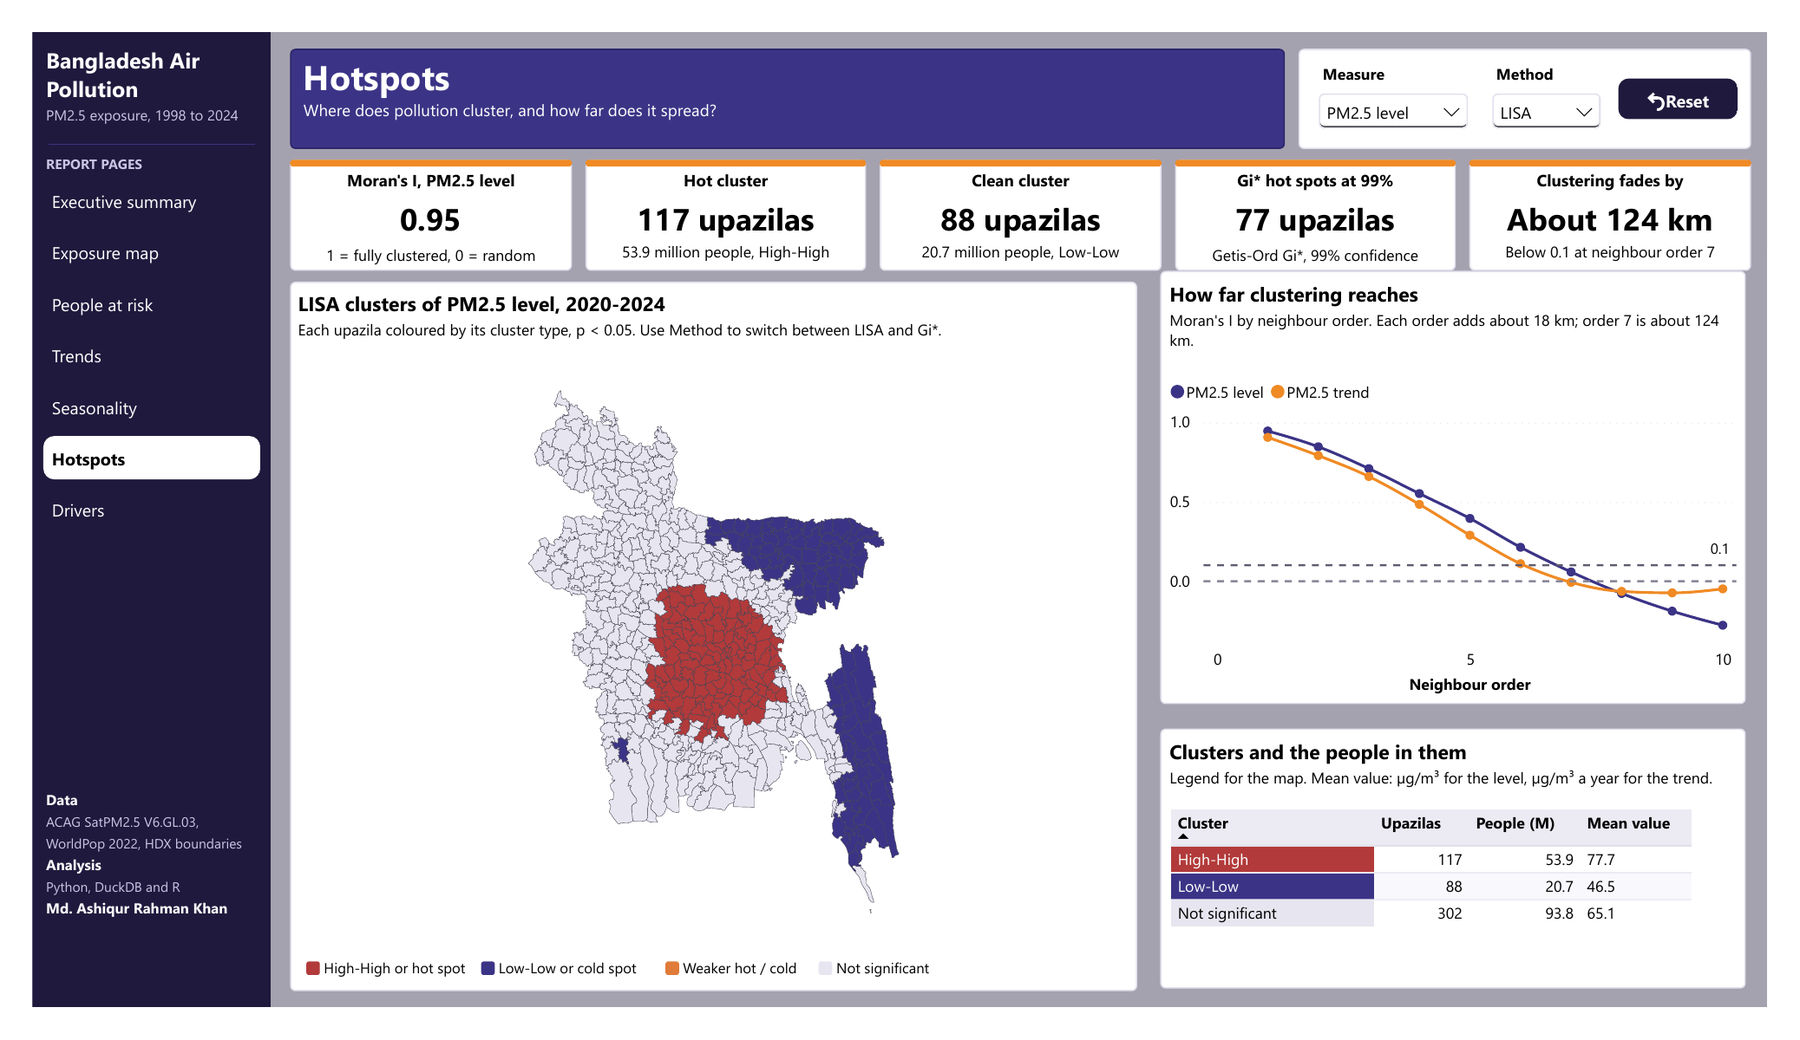

This screenshot's page, from the dashboard's own definition file:
{"tool":"powerbi","page":{"name":"Hotspots","canvas":[1280,720],"ordinal":5},"visuals":[{"type":"shape","box":[0,0,176,720],"z":1100},{"type":"textbox","box":[8,8,160,72],"z":1200},{"type":"shape","box":[12,82,152,1],"z":1300},{"type":"textbox","box":[8,86,160,20],"z":1400},{"type":"actionButton","box":[8,108,160,32],"z":1500},{"type":"actionButton","box":[8,146,160,32],"z":1600},{"type":"actionButton","box":[8,184,160,32],"z":1700},{"type":"actionButton","box":[8,222,160,32],"z":1800},{"type":"actionButton","box":[8,260,160,32],"z":1900},{"type":"actionButton","box":[8,298,160,32],"z":2000},{"type":"actionButton","box":[8,336,160,32],"z":2100},{"type":"textbox","box":[8,556,160,156],"z":2200},{"type":"shape","box":[190,12,734,74],"z":2300},{"type":"textbox","box":[198,14,718,70],"z":2400},{"type":"shape","box":[934,12,334,74],"z":2500},{"type":"slicer","fields":{"Values":["Cluster Measure.Measure"]},"box":[944,23,120,52],"z":2600},{"type":"slicer","fields":{"Values":["Cluster Legend.Method"]},"box":[1072,23,90,52],"z":2700},{"type":"actionButton","box":[1170,34,88,30],"z":2800},{"type":"shape","box":[190,94,207.6,82],"z":2900},{"type":"shape","box":[190,94,207.6,5],"z":3000},{"type":"card","fields":{"Values":["_Measures.KPI Moran"]},"box":[194,99,199.6,58],"z":3100},{"type":"textbox","box":[193,155,201.6,20],"z":3200},{"type":"shape","box":[407.6,94,207.6,82],"z":3300},{"type":"shape","box":[407.6,94,207.6,5],"z":3400},{"type":"card","title":"Hot cluster","fields":{"Values":["_Measures.KPI Hot Cluster"]},"box":[411.6,99,199.6,58],"z":3500},{"type":"card","fields":{"Values":["_Measures.Sub Hot Cluster"]},"box":[410.6,156,201.6,18],"z":3600},{"type":"shape","box":[625.2,94,207.6,82],"z":3700},{"type":"shape","box":[625.2,94,207.6,5],"z":3800},{"type":"card","title":"Clean cluster","fields":{"Values":["_Measures.KPI Clean Cluster"]},"box":[629.2,99,199.6,58],"z":3900},{"type":"card","fields":{"Values":["_Measures.Sub Clean Cluster"]},"box":[628.2,156,201.6,18],"z":4000},{"type":"shape","box":[842.8,94,207.6,82],"z":4100},{"type":"shape","box":[842.8,94,207.6,5],"z":4200},{"type":"card","title":"Gi* hot spots at 99%","fields":{"Values":["_Measures.KPI Hot Spots 99"]},"box":[846.8,99,199.6,58],"z":4300},{"type":"textbox","box":[845.8,155,201.6,20],"z":4400},{"type":"shape","box":[1060.4,94,207.6,82],"z":4500},{"type":"shape","box":[1060.4,94,207.6,5],"z":4600},{"type":"card","title":"Clustering fades by","fields":{"Values":["_Measures.KPI Fades"]},"box":[1064.4,99,199.6,58],"z":4700},{"type":"card","fields":{"Values":["_Measures.Sub Fades"]},"box":[1063.4,156,201.6,18],"z":4800},{"type":"shape","box":[190,184,624.7,524],"z":4900},{"type":"shapeMap","fields":{"Category":["dim_geo.pcode"],"Y":["_Measures.Cluster Sort"]},"box":[190,184,624.7,494],"z":5000},{"type":"shape","box":[202,686,10,10],"z":5100},{"type":"textbox","box":[215,682,108.5,18],"z":5200},{"type":"shape","box":[331.4,686,10,10],"z":5300},{"type":"textbox","box":[344.4,682,114.8,18],"z":5400},{"type":"shape","box":[467.2,686,10,10],"z":5500},{"type":"textbox","box":[480.2,682,91.5,18],"z":5600},{"type":"shape","box":[579.7,686,10,10],"z":5700},{"type":"textbox","box":[592.7,682,78.7,18],"z":5800},{"type":"lineChart","title":"How far clustering reaches","fields":{"Category":["stat_correlogram.lag_order"],"Y":["_Measures.Correlogram Level","_Measures.Correlogram Trend"]},"box":[832,176,432,320],"z":5900},{"type":"tableEx","title":"Clusters and the people in them","fields":{"Values":["Cluster Legend.Class","_Measures.Cluster Upazilas","_Measures.Cluster People","_Measures.Cluster Mean"]},"box":[832,514,432,192],"z":6000}]}

Visuals, with their boxes in screenshot pixels (x1, y1, x2, y2), scaled from the page's 1280x720 canvas onto the 1800x1040 screenshot:
shape: [left=0, top=0, right=248, bottom=1039]
textbox: [left=11, top=12, right=236, bottom=116]
shape: [left=17, top=118, right=231, bottom=120]
textbox: [left=11, top=124, right=236, bottom=153]
actionButton: [left=11, top=156, right=236, bottom=202]
actionButton: [left=11, top=211, right=236, bottom=257]
actionButton: [left=11, top=266, right=236, bottom=312]
actionButton: [left=11, top=321, right=236, bottom=367]
actionButton: [left=11, top=376, right=236, bottom=422]
actionButton: [left=11, top=430, right=236, bottom=477]
actionButton: [left=11, top=485, right=236, bottom=532]
textbox: [left=11, top=803, right=236, bottom=1028]
shape: [left=267, top=17, right=1299, bottom=124]
textbox: [left=278, top=20, right=1288, bottom=121]
shape: [left=1313, top=17, right=1783, bottom=124]
slicer - Cluster Measure.Measure: [left=1328, top=33, right=1496, bottom=108]
slicer - Cluster Legend.Method: [left=1508, top=33, right=1634, bottom=108]
actionButton: [left=1645, top=49, right=1769, bottom=92]
shape: [left=267, top=136, right=559, bottom=254]
shape: [left=267, top=136, right=559, bottom=143]
card - _Measures.KPI Moran: [left=273, top=143, right=554, bottom=227]
textbox: [left=271, top=224, right=555, bottom=253]
shape: [left=573, top=136, right=865, bottom=254]
shape: [left=573, top=136, right=865, bottom=143]
"Hot cluster" card: [left=579, top=143, right=860, bottom=227]
card - _Measures.Sub Hot Cluster: [left=577, top=225, right=861, bottom=251]
shape: [left=879, top=136, right=1171, bottom=254]
shape: [left=879, top=136, right=1171, bottom=143]
"Clean cluster" card: [left=885, top=143, right=1166, bottom=227]
card - _Measures.Sub Clean Cluster: [left=883, top=225, right=1167, bottom=251]
shape: [left=1185, top=136, right=1477, bottom=254]
shape: [left=1185, top=136, right=1477, bottom=143]
"Gi* hot spots at 99%" card: [left=1191, top=143, right=1471, bottom=227]
textbox: [left=1189, top=224, right=1473, bottom=253]
shape: [left=1491, top=136, right=1783, bottom=254]
shape: [left=1491, top=136, right=1783, bottom=143]
"Clustering fades by" card: [left=1497, top=143, right=1778, bottom=227]
card - _Measures.Sub Fades: [left=1495, top=225, right=1779, bottom=251]
shape: [left=267, top=266, right=1146, bottom=1023]
shapeMap - dim_geo.pcode x _Measures.Cluster Sort: [left=267, top=266, right=1146, bottom=979]
shape: [left=284, top=991, right=298, bottom=1005]
textbox: [left=302, top=985, right=455, bottom=1011]
shape: [left=466, top=991, right=480, bottom=1005]
textbox: [left=484, top=985, right=646, bottom=1011]
shape: [left=657, top=991, right=671, bottom=1005]
textbox: [left=675, top=985, right=804, bottom=1011]
shape: [left=815, top=991, right=829, bottom=1005]
textbox: [left=833, top=985, right=944, bottom=1011]
"How far clustering reaches" lineChart: [left=1170, top=254, right=1778, bottom=716]
"Clusters and the people in them" tableEx: [left=1170, top=742, right=1778, bottom=1020]
